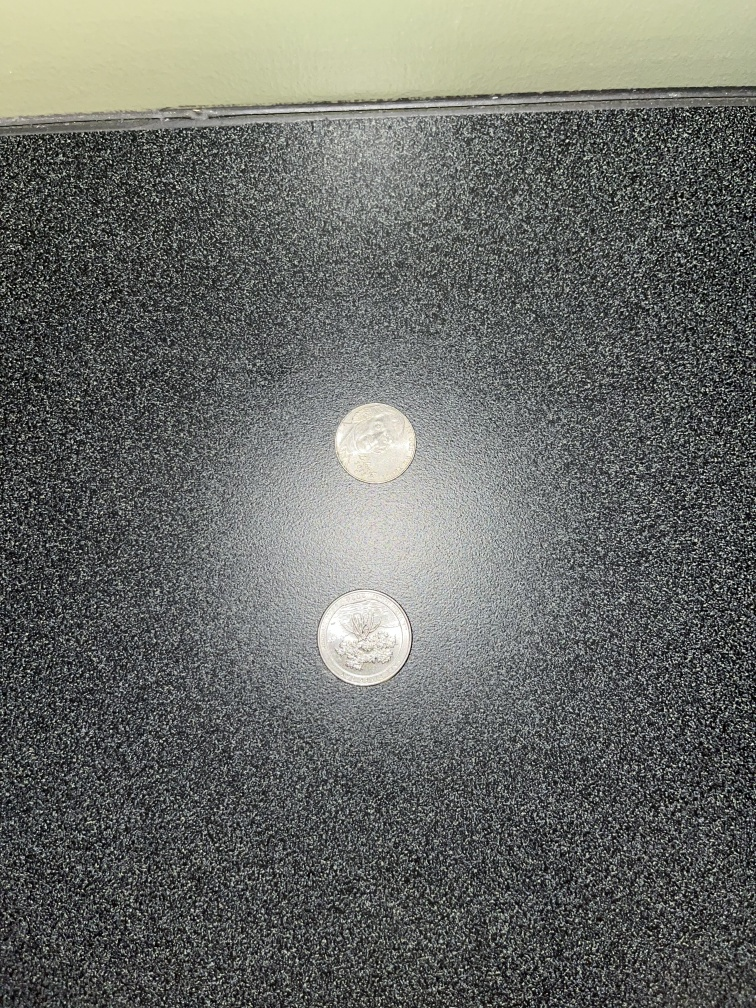nickel: (330, 398, 422, 490)
quarter: (310, 585, 420, 693)
